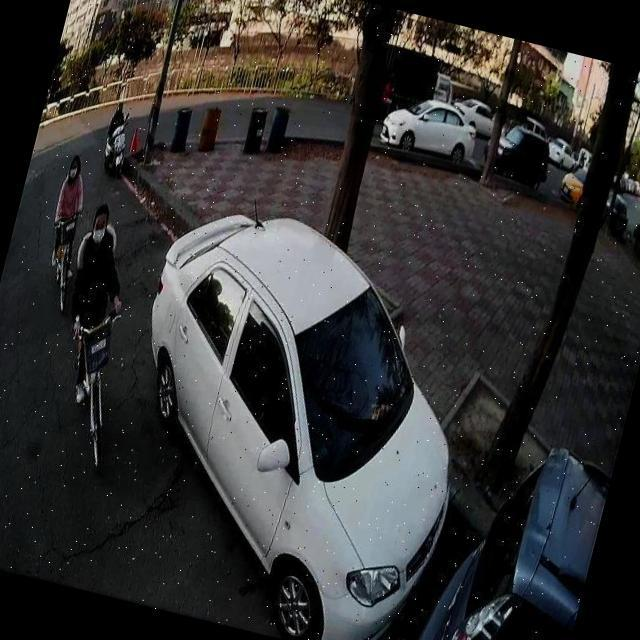person: (41, 194, 150, 408), (36, 148, 104, 287), (104, 96, 134, 144)
